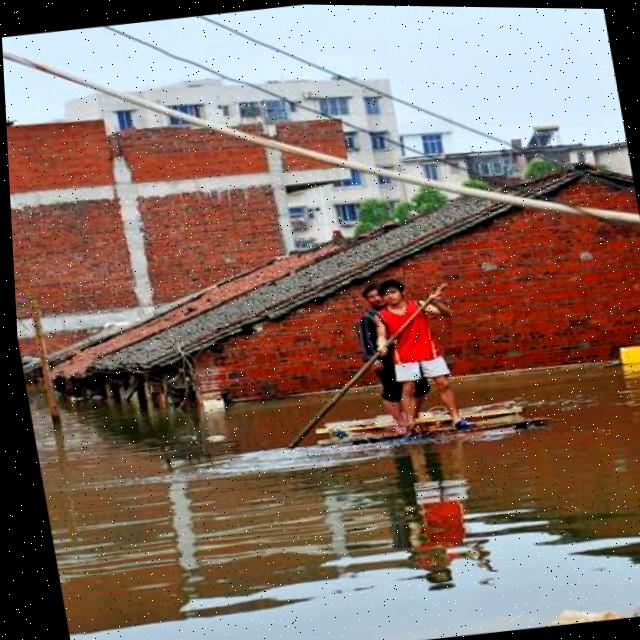civilian: (363, 254, 484, 446), (338, 275, 443, 436)
